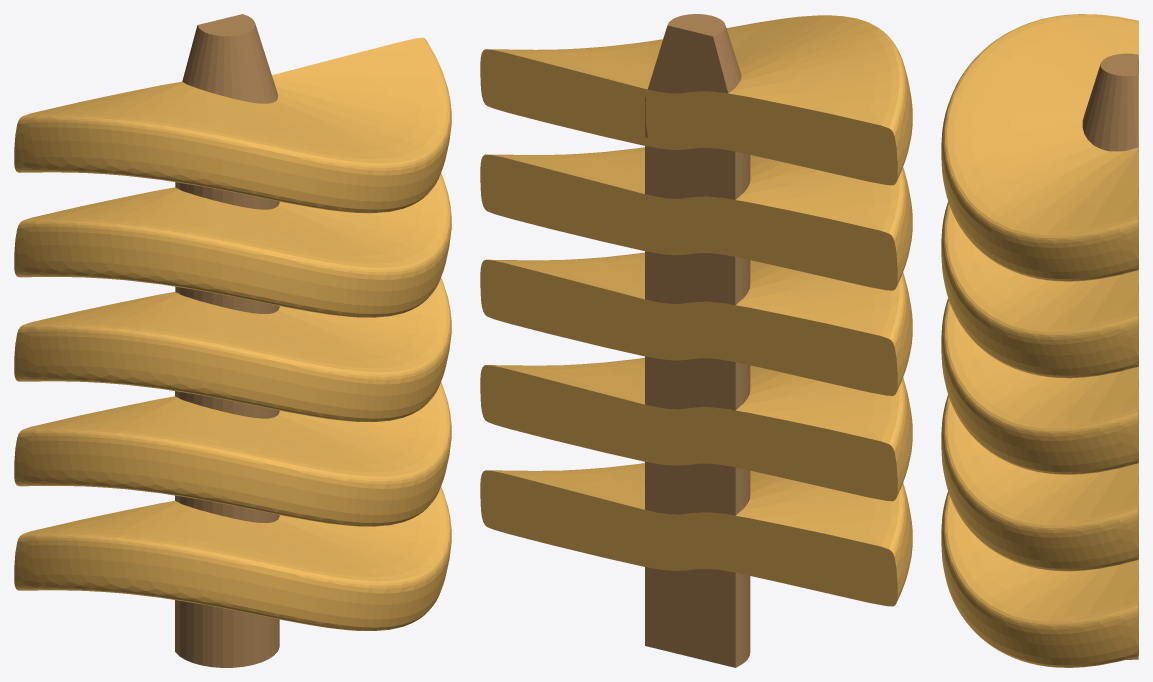
Rendered from twister_potato.glb.
The picture shows the model from 3 angles, left to right: view 1: azimuth 30°, elevation 25°; view 2: azimuth 150°, elevation 25°; view 3: azimuth 270°, elevation 25°; orthographic projection. The views are drawn at different scales.
Visible parts, largest first — view 1: Circle.081; view 2: Circle.081; view 3: Circle.081.
Boxes of the visible parts, x1,y1,x2,y2 form: Circle.081: (14,14,451,667); Circle.081: (480,14,912,667); Circle.081: (941,14,1138,667).
Bounding box in the file's own units: 11.19 × 16.03 × 5.
